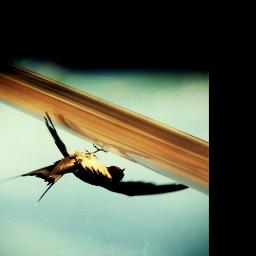Swallow: (0, 112, 192, 205)
